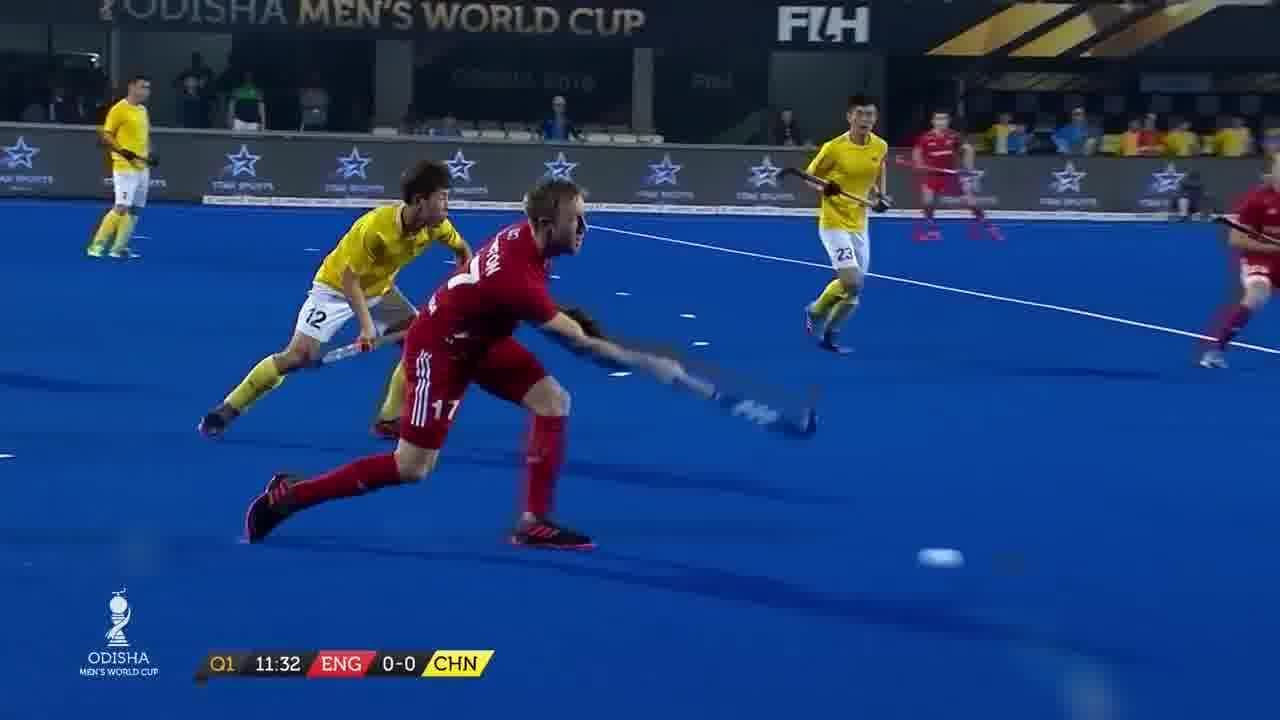ball: (922, 549, 965, 573)
